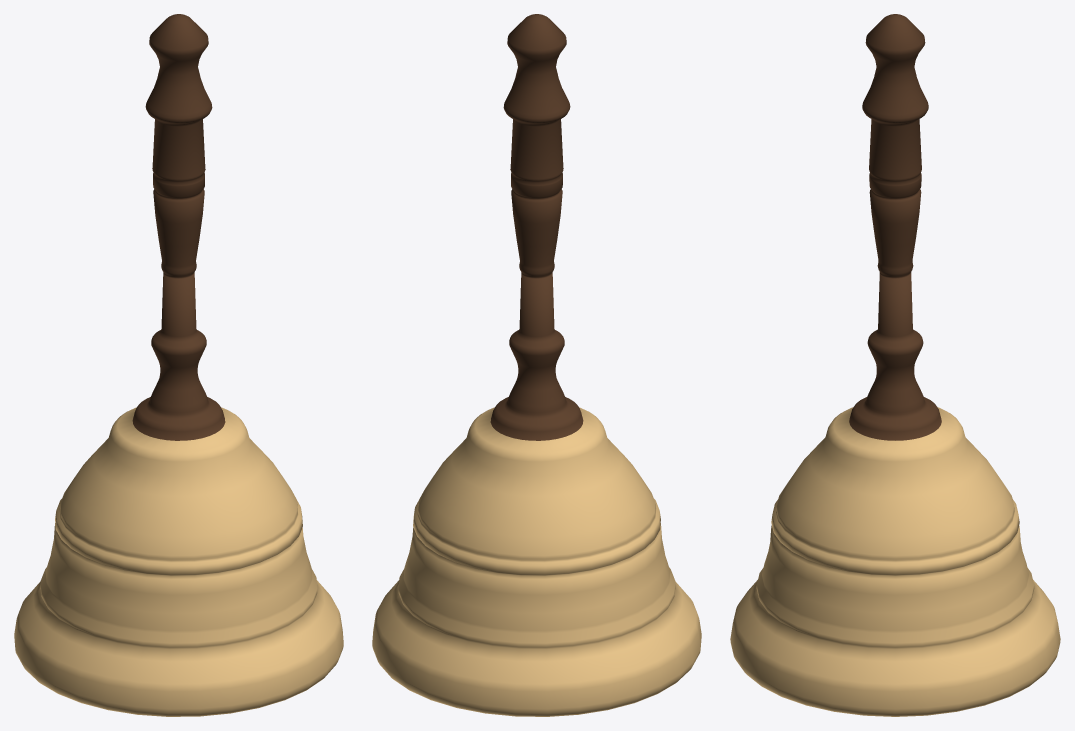
The model's file is Bell.fbx.
3 renders of one model, left to right at view 1: azimuth 30°, elevation 25°; view 2: azimuth 150°, elevation 25°; view 3: azimuth 270°, elevation 25°, orthographic.
Visible parts, largest first — view 1: Bell; view 2: Bell; view 3: Bell.
Part boxes in pixels (x1,y1,x2,y2): Bell: (14,14,343,716); Bell: (372,14,701,716); Bell: (730,14,1060,716).
Bounding box in the file's own units: 579 × 1226 × 579.
